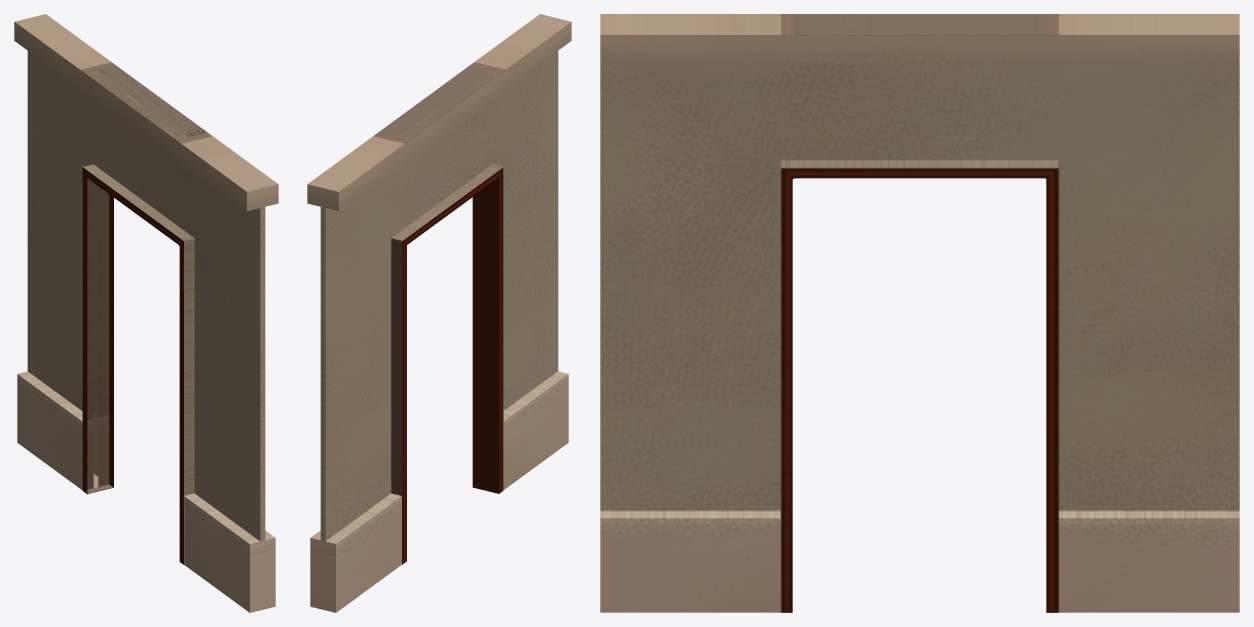
Rendered from doorway.obj.
3 views of the same model, side by side, from view 1: azimuth 30°, elevation 25°; view 2: azimuth 150°, elevation 25°; view 3: azimuth 270°, elevation 25° (orthographic). The views are drawn at different scales.
Parts seen in each view (by area): view 1: door; view 2: door; view 3: door.
Boxes of the visible parts, bbox=[...] form: door: bbox=[14, 14, 278, 612]; door: bbox=[307, 14, 571, 612]; door: bbox=[600, 14, 1239, 612].
Size of the model in its own units: 0.078 by 1 by 1.
